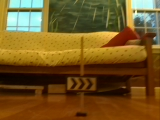right: (66, 76, 97, 90)
